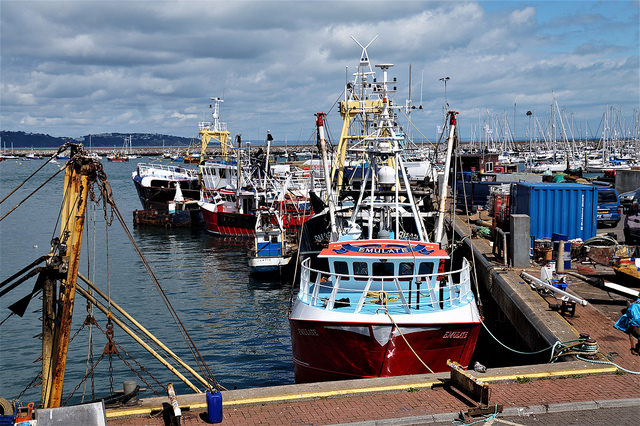boat: (248, 211, 290, 283)
fishing_boat: (295, 104, 484, 378)
